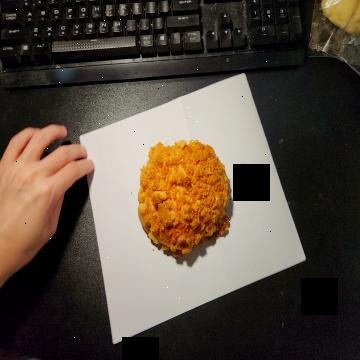soboru_bread: (134, 138, 230, 256)
